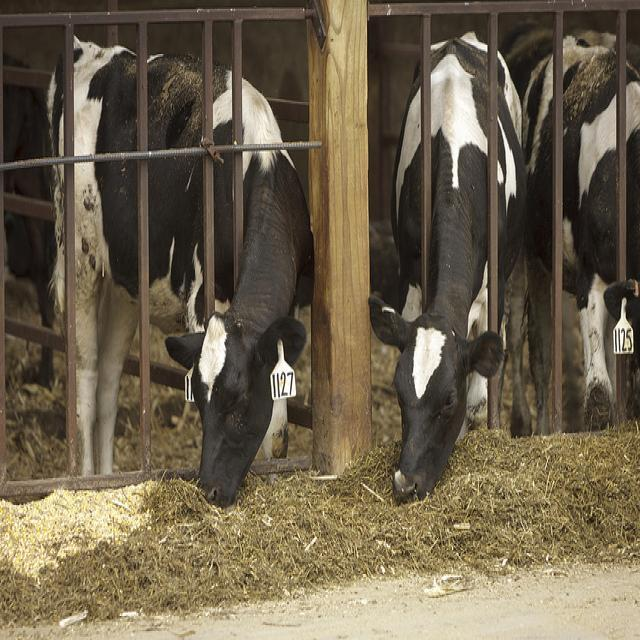cow: (44, 30, 313, 510), (370, 24, 525, 502), (501, 9, 639, 448), (0, 50, 54, 388)
